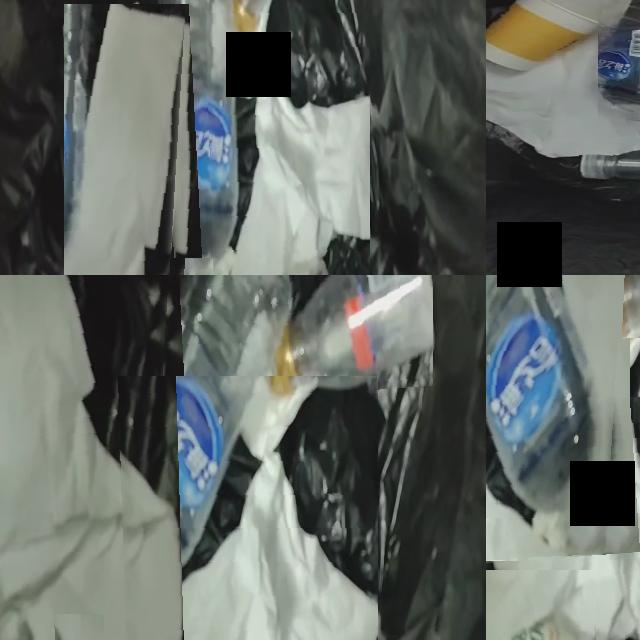bottle: (103, 275, 289, 628), (486, 275, 612, 557), (161, 0, 235, 275), (274, 275, 433, 396), (598, 0, 640, 124)
dixie_cup: (486, 0, 606, 70)
paper: (134, 377, 378, 640), (0, 275, 157, 640), (212, 0, 370, 275), (486, 397, 640, 640), (64, 4, 185, 275), (486, 38, 640, 158), (564, 275, 640, 403), (546, 0, 611, 26), (59, 614, 104, 640), (486, 518, 506, 554)
